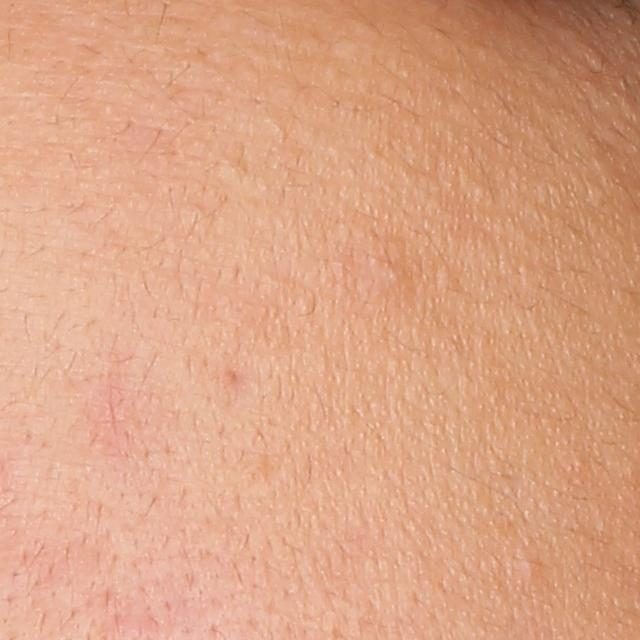comedo: (514, 540, 542, 582)
